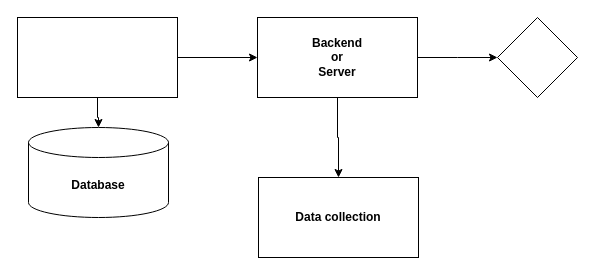
Some shapes in this 595 by 275 pixel diagram are drawn without their labels. Here are the shapes that lost their labels. From the top down, the centre of each, then its label:
point 97,57: UI or Frontend
point 537,57: ML Module
